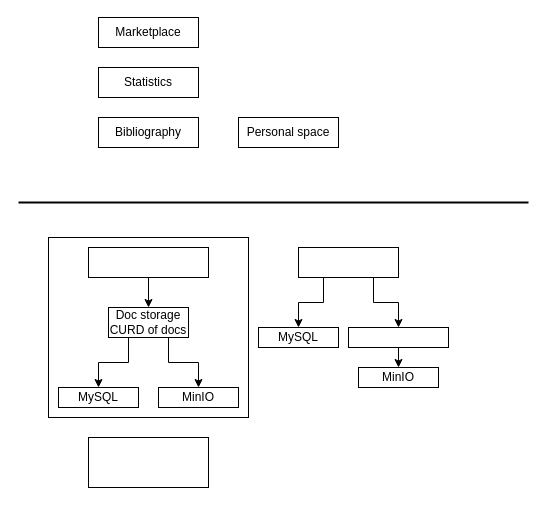
Some shapes in this 546 by 505 pixel diagram are drawn without their labels. The shapes that lost their labels are listed below. From the top down, each one's centre as x and y in pixels, then its label:
point 148,262: Doc storage console
point 348,262: Spike Account system
point 398,337: Image server
point 148,462: Generic doc storage system Kiwifruit
